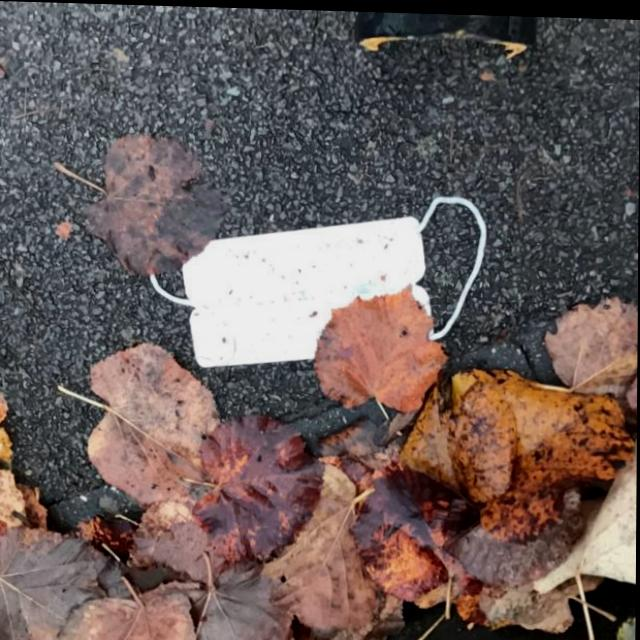Mask: (145, 180, 492, 375)
